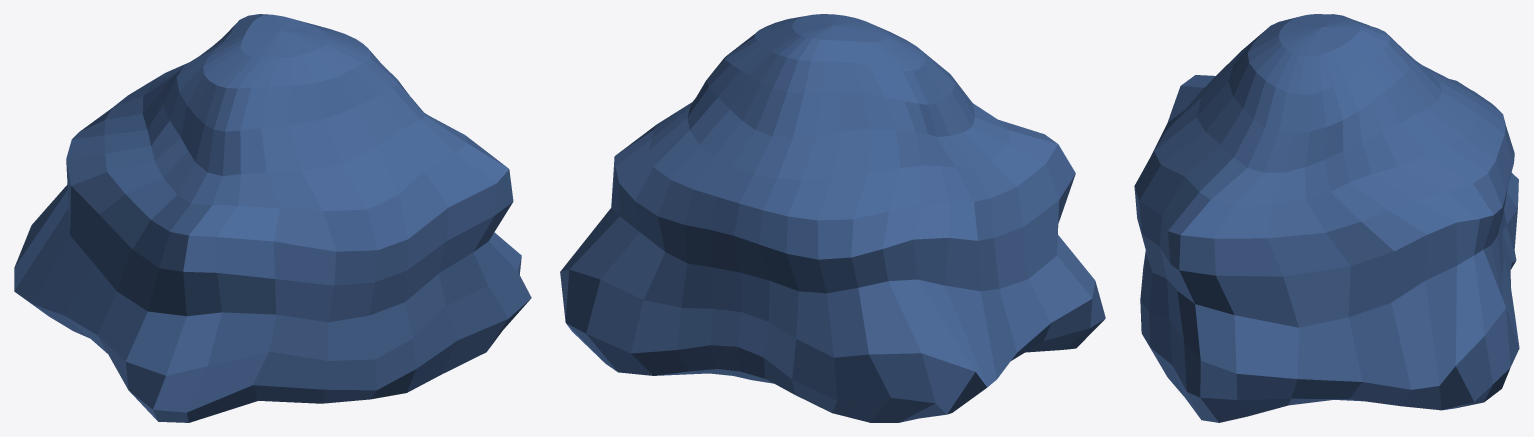
The model's file is tree-winter-leaves-026.glb.
3 renders of one model, left to right at view 1: azimuth 30°, elevation 25°; view 2: azimuth 150°, elevation 25°; view 3: azimuth 270°, elevation 25°, orthographic. The views are drawn at different scales.
Visible parts, largest first — view 1: Plane.071_160; view 2: Plane.071_160; view 3: Plane.071_160.
Boxes of the visible parts, x1,y1,x2,y2 form: Plane.071_160: [14, 14, 531, 422]; Plane.071_160: [560, 14, 1105, 422]; Plane.071_160: [1134, 14, 1519, 422].
Bounding box in the file's own units: 1.11 × 0.8445 × 0.8905.
